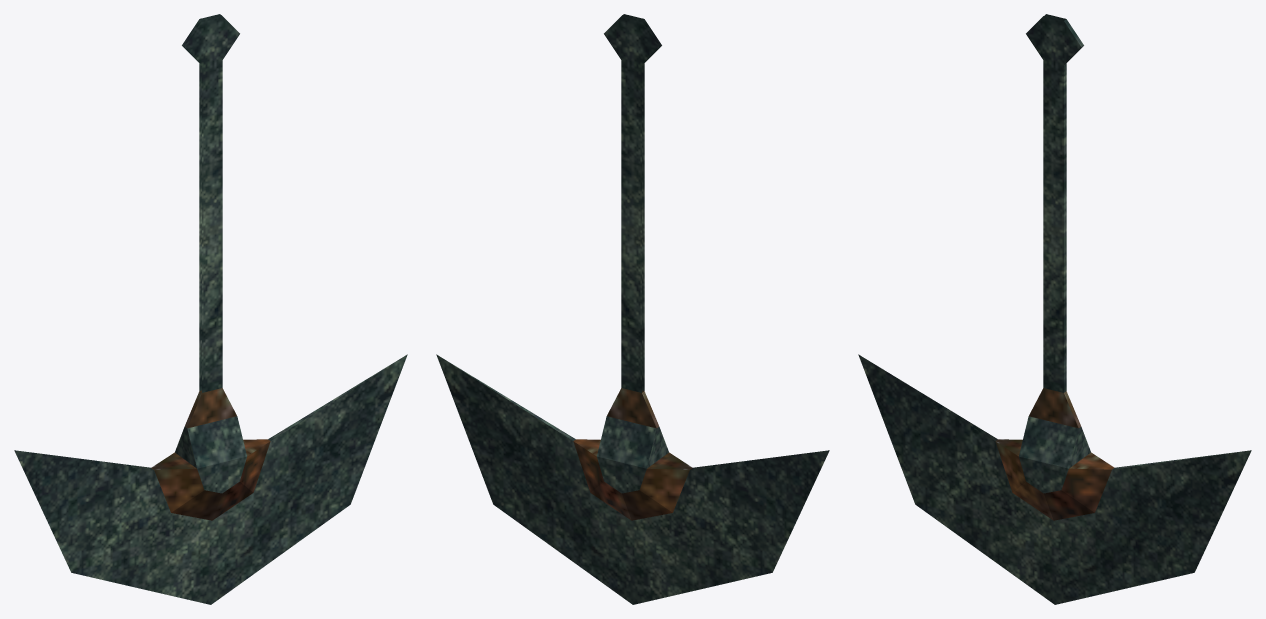
The model's file is SwingScythe.glb.
The picture shows the model from 3 angles, left to right: view 1: azimuth 30°, elevation 25°; view 2: azimuth 150°, elevation 25°; view 3: azimuth 330°, elevation 25°; orthographic projection.
Visible parts, largest first — view 1: Circle; view 2: Circle; view 3: Circle.
Part boxes in pixels (x1,y1,x2,y2): Circle: (14, 14, 407, 604); Circle: (436, 14, 829, 604); Circle: (858, 14, 1251, 604).
Bounding box in the file's own units: 2.3 × 3.28 × 0.2259.
2 materials, 2 textured.
